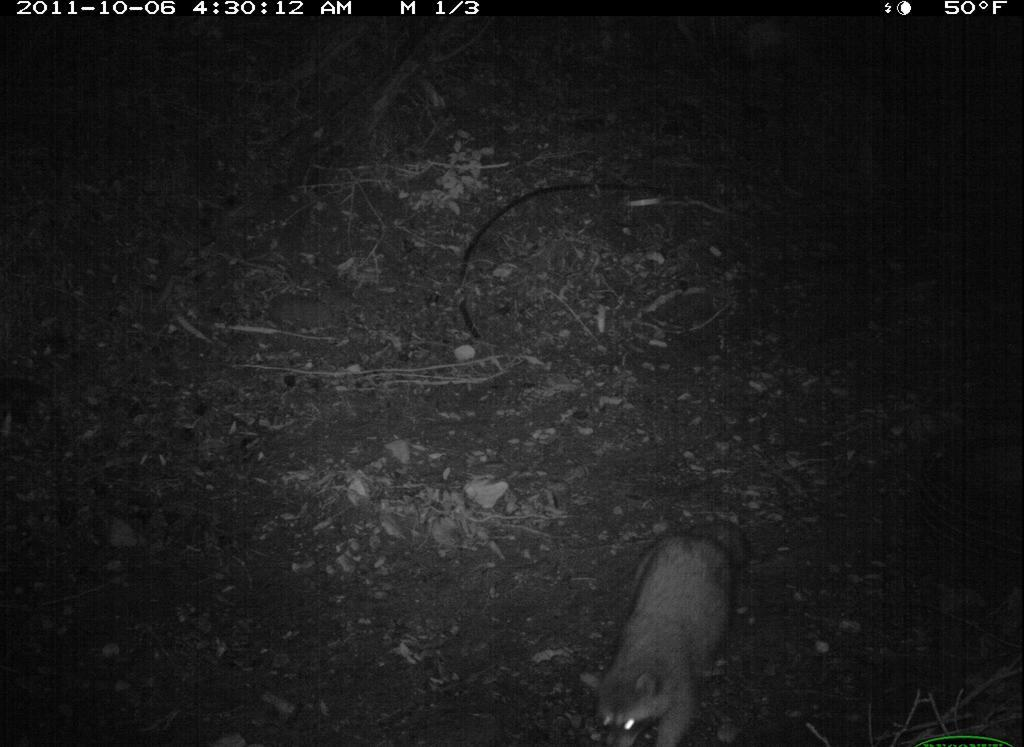raccoon: (574, 511, 754, 747)
